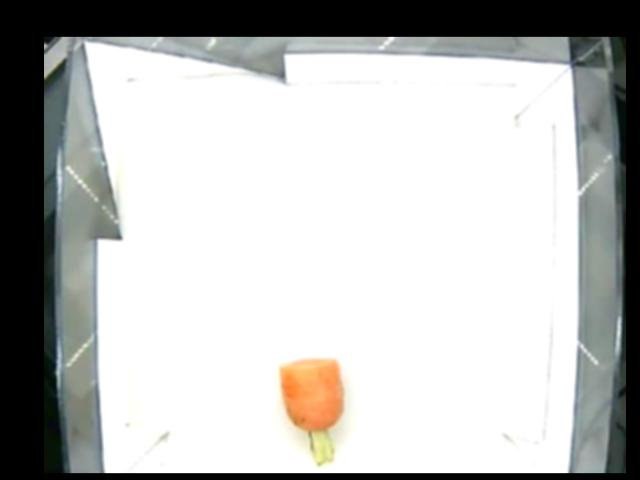Carrot: (281, 356, 345, 470)
